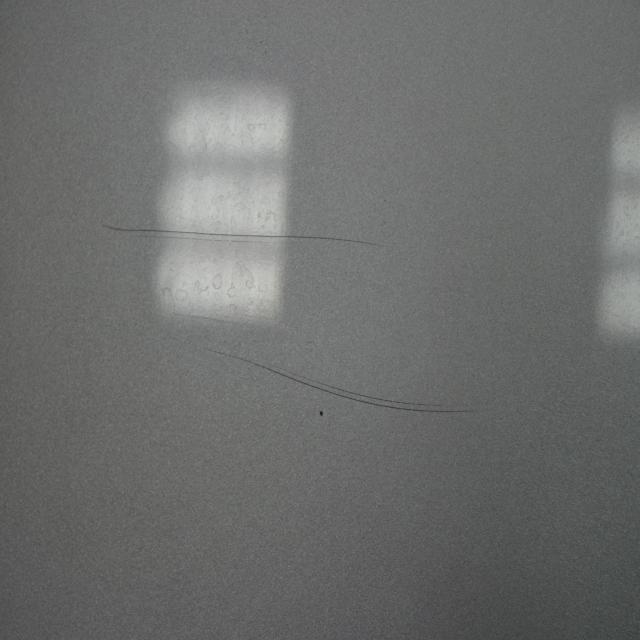dirt: (318, 407, 326, 419)
scratch: (201, 336, 481, 418), (94, 215, 388, 250)
water marks: (153, 240, 292, 342), (174, 120, 289, 233)
